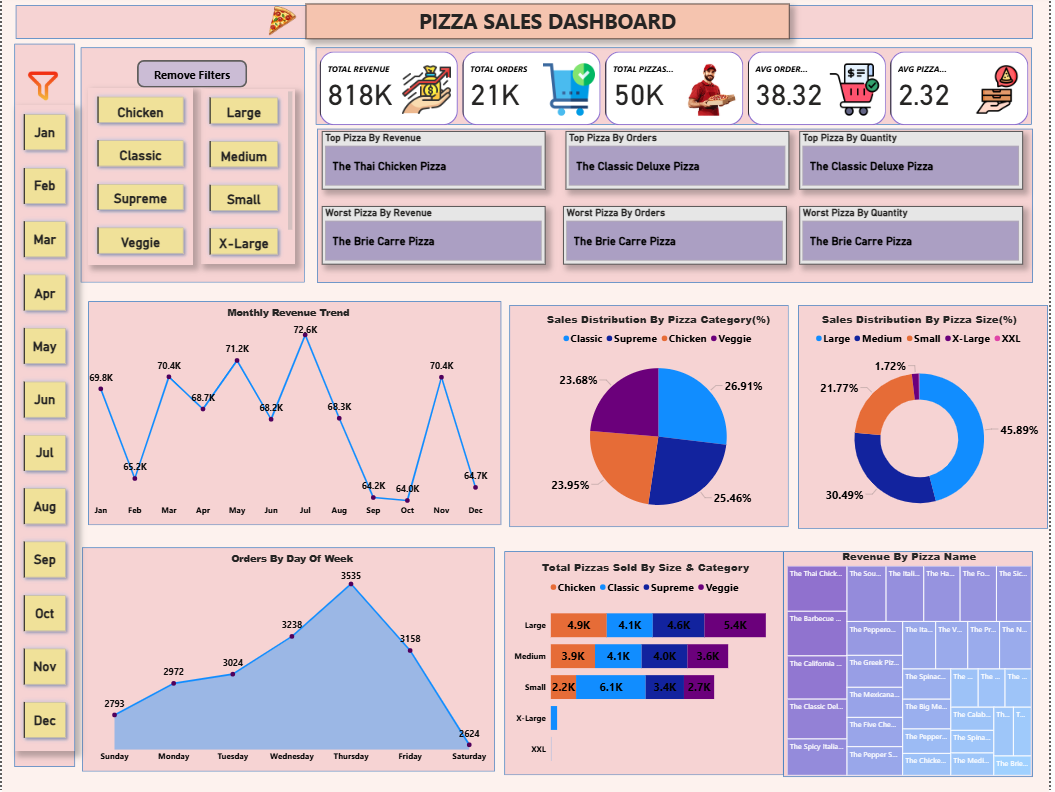

The page's visual inventory and layout, read from the dashboard file:
{"tool":"powerbi","page":{"name":"Dashboard","canvas":[1900,1450],"ordinal":0},"visuals":[{"type":"group","id":"g1","title":"Group 1","box":[23.3,18.6,1876.7,1401.4],"z":0},{"type":"shape","box":[24.6,18.6,1847.1,61.5],"z":0,"group":"g1"},{"type":"shape","box":[23.3,90,110,1313.3],"z":1000,"group":"g1"},{"type":"cardVisual","fields":{"Data":["pizza_sales.TOTAL REVENUE","pizza_sales.TOTAL ORDERS","pizza_sales.TOTAL PIZZAS SOLD","pizza_sales.AVG ORDER VALUE","pizza_sales.AVG PIZZA PER_ORDER"]},"box":[572.3,97.2,1298,144.7],"z":1000},{"type":"shape","box":[143.3,96.7,406.7,426.7],"z":2000,"group":"g1"},{"type":"lineChart","title":"Orders By Day Of Week","fields":{"Category":["pizza_sales.Day Name"],"Y":["pizza_sales.TOTAL ORDERS"]},"box":[156.7,1010,740,393.3],"z":2000},{"type":"shape","box":[571.2,96.7,1300,140.1],"z":3000,"group":"g1"},{"type":"pieChart","title":"Sales Distribution By Pizza Category(%)","fields":{"Y":["pizza_sales.TOTAL REVENUE"],"Category":["pizza_sales.pizza_category"]},"box":[866.7,573.3,650,393.3],"z":3000},{"type":"shape","box":[573.3,243.4,1300,280],"z":4000,"group":"g1"},{"type":"donutChart","title":"Sales Distribution By Pizza Size(%)","fields":{"Y":["pizza_sales.TOTAL REVENUE"],"Category":["pizza_sales.pizza_size"]},"box":[1446.7,573.3,440,400],"z":4000},{"type":"shape","box":[156.6,556.7,750,406.7],"z":5000,"group":"g1"},{"type":"barChart","title":"Total Pizzas Sold By Size & Category","fields":{"Category":["pizza_sales.pizza_size"],"Y":["pizza_sales.TOTAL PIZZAS SOLD"],"Series":["pizza_sales.pizza_category"]},"box":[923.3,1026.7,490,393.3],"z":5000},{"type":"shape","box":[923.3,563.4,506.7,403.3],"z":6000,"group":"g1"},{"type":"treemap","title":"Revenue By Pizza Name","fields":{"Values":["pizza_sales.TOTAL REVENUE"],"Group":["pizza_sales.pizza_name"]},"box":[1420,1006.7,453.3,416.7],"z":6000},{"type":"lineChart","title":" Monthly Revenue Trend","fields":{"Category":["pizza_sales.Month"],"Y":["pizza_sales.TOTAL REVENUE"]},"box":[150,563.3,740,393.3],"z":7000},{"type":"shape","box":[1446.6,563.4,453.3,406.7],"z":7000,"group":"g1"},{"type":"advancedSlicerVisual","title":"Top Pizza By Revenue","fields":{"Values":["pizza_sales.pizza_name"]},"box":[581.4,247.1,405.7,105.7],"z":8000},{"type":"shape","box":[146.6,1003.4,750,406.7],"z":8000,"group":"g1"},{"type":"advancedSlicerVisual","title":"Worst Pizza By Revenue","fields":{"Values":["pizza_sales.pizza_name"]},"box":[581.4,382.9,405.7,105.7],"z":9000},{"type":"shape","box":[913.3,1010,506.7,406.7],"z":9000,"group":"g1"},{"type":"actionButton","box":[245,117.5,200,50],"z":10000,"group":"g1"},{"type":"advancedSlicerVisual","title":"Top Pizza By Orders","fields":{"Values":["pizza_sales.pizza_name"]},"box":[1024.3,247.1,405.7,105.7],"z":10000},{"type":"image","box":[32.6,99.5,86,128],"z":11000,"group":"g1"},{"type":"advancedSlicerVisual","title":"Worst Pizza By Orders","fields":{"Values":["pizza_sales.pizza_name"]},"box":[1020,382.9,405.7,105.7],"z":11000},{"type":"advancedSlicerVisual","title":"Top Pizza By Quantity","fields":{"Values":["pizza_sales.pizza_name"]},"box":[1447.1,247.1,405.7,105.7],"z":12000},{"type":"shape","box":[1420,1010,453.3,410],"z":12000,"group":"g1"},{"type":"advancedSlicerVisual","title":"Worst Pizza By Quantity","fields":{"Values":["pizza_sales.pizza_name"]},"box":[1447.1,382.9,405.7,105.7],"z":13000},{"type":"advancedSlicerVisual","fields":{"Values":["pizza_sales.Month"]},"box":[23.3,200,110,1173.3],"z":14000},{"type":"advancedSlicerVisual","fields":{"Values":["pizza_sales.pizza_category"]},"box":[157.1,167.1,190,321.4],"z":15000},{"type":"advancedSlicerVisual","fields":{"Values":["pizza_sales.pizza_size"]},"box":[360,170,171.4,318.6],"z":16000},{"type":"image","box":[442,12,130,72],"z":17000},{"type":"textbox","box":[552,16,878,64],"z":18000}]}

Visuals, with their boxes in screenshot pixels (x1, y1, x2, y2), scaled from the page's 1900x1450 canvas onto the 1055x792 screenshot:
"Group 1" group: {"left": 13, "top": 10, "right": 1054, "bottom": 776}
shape: {"left": 14, "top": 10, "right": 1039, "bottom": 44}
shape: {"left": 13, "top": 49, "right": 74, "bottom": 766}
cardVisual - pizza_sales.TOTAL REVENUE x pizza_sales.TOTAL ORDERS: {"left": 318, "top": 53, "right": 1039, "bottom": 132}
shape: {"left": 80, "top": 53, "right": 305, "bottom": 286}
"Orders By Day Of Week" lineChart: {"left": 87, "top": 552, "right": 498, "bottom": 766}
shape: {"left": 317, "top": 53, "right": 1039, "bottom": 129}
"Sales Distribution By Pizza Category(%)" pieChart: {"left": 481, "top": 313, "right": 842, "bottom": 528}
shape: {"left": 318, "top": 133, "right": 1040, "bottom": 286}
"Sales Distribution By Pizza Size(%)" donutChart: {"left": 803, "top": 313, "right": 1048, "bottom": 532}
shape: {"left": 87, "top": 304, "right": 503, "bottom": 526}
"Total Pizzas Sold By Size & Category" barChart: {"left": 513, "top": 561, "right": 785, "bottom": 776}
shape: {"left": 513, "top": 308, "right": 794, "bottom": 528}
"Revenue By Pizza Name" treemap: {"left": 788, "top": 550, "right": 1040, "bottom": 777}
" Monthly Revenue Trend" lineChart: {"left": 83, "top": 308, "right": 494, "bottom": 523}
shape: {"left": 803, "top": 308, "right": 1054, "bottom": 530}
"Top Pizza By Revenue" advancedSlicerVisual: {"left": 323, "top": 135, "right": 548, "bottom": 193}
shape: {"left": 81, "top": 548, "right": 498, "bottom": 770}
"Worst Pizza By Revenue" advancedSlicerVisual: {"left": 323, "top": 209, "right": 548, "bottom": 267}
shape: {"left": 507, "top": 552, "right": 788, "bottom": 774}
actionButton: {"left": 136, "top": 64, "right": 247, "bottom": 91}
"Top Pizza By Orders" advancedSlicerVisual: {"left": 569, "top": 135, "right": 794, "bottom": 193}
image: {"left": 18, "top": 54, "right": 66, "bottom": 124}
"Worst Pizza By Orders" advancedSlicerVisual: {"left": 566, "top": 209, "right": 792, "bottom": 267}
"Top Pizza By Quantity" advancedSlicerVisual: {"left": 804, "top": 135, "right": 1029, "bottom": 193}
shape: {"left": 788, "top": 552, "right": 1040, "bottom": 776}
"Worst Pizza By Quantity" advancedSlicerVisual: {"left": 804, "top": 209, "right": 1029, "bottom": 267}
advancedSlicerVisual - pizza_sales.Month: {"left": 13, "top": 109, "right": 74, "bottom": 750}
advancedSlicerVisual - pizza_sales.pizza_category: {"left": 87, "top": 91, "right": 193, "bottom": 267}
advancedSlicerVisual - pizza_sales.pizza_size: {"left": 200, "top": 93, "right": 295, "bottom": 267}
image: {"left": 245, "top": 7, "right": 318, "bottom": 46}
textbox: {"left": 307, "top": 9, "right": 794, "bottom": 44}
